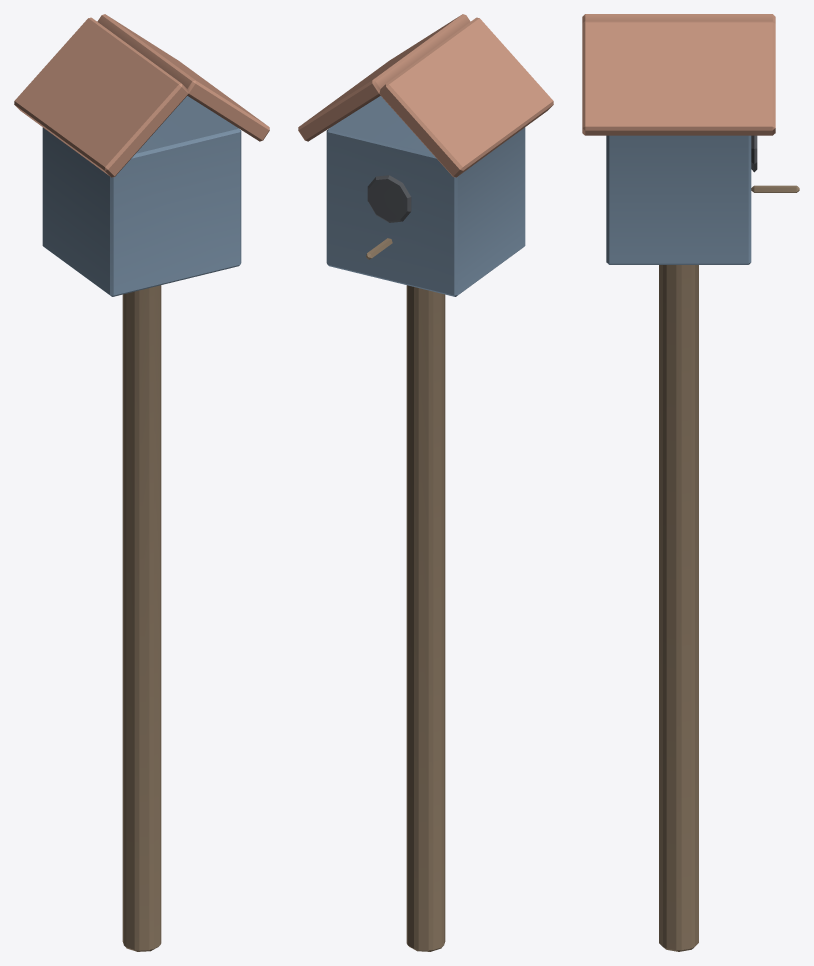
File: birdhouse.glb
3 views of the same model, side by side, from view 1: azimuth 30°, elevation 25°; view 2: azimuth 150°, elevation 25°; view 3: azimuth 270°, elevation 25° (orthographic). The views are drawn at different scales.
Bounding box in the file's own units: 0.3264 × 1.69 × 0.36.
